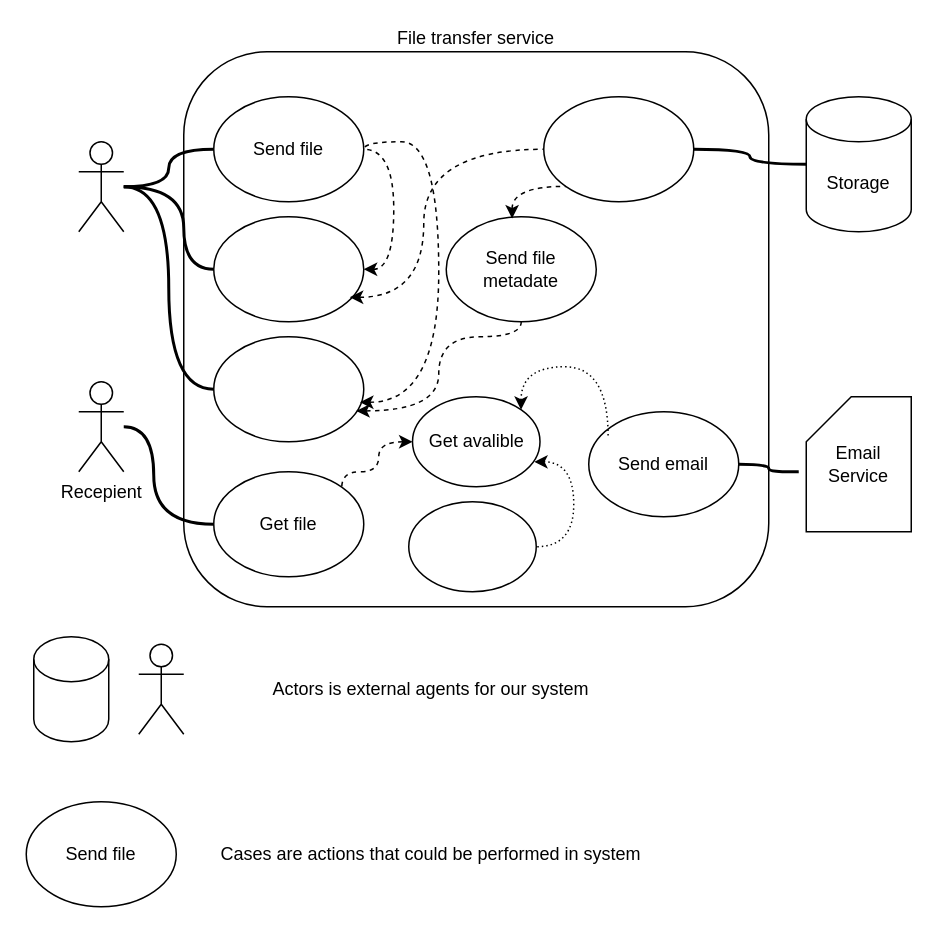
This 938x933 diagram has some shape labels left out. Here are the shapes that lost their labels. From the top down, the centre of each, then its label:
At (x=618, y=148): "Store file".
At (x=100, y=186): "Sender".
At (x=288, y=268): "Upload file".
At (x=288, y=388): "Specify Recepient".
At (x=471, y=546): "Get file list".
